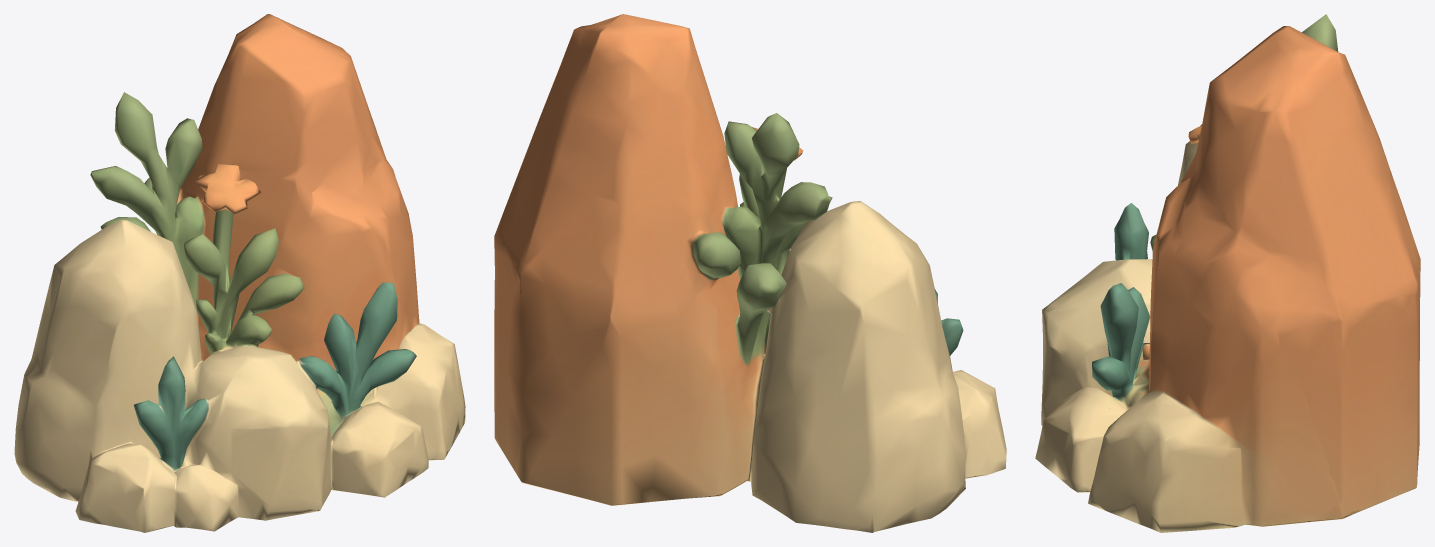
File: rocas_2.glb
3 renders of one model, left to right at view 1: azimuth 30°, elevation 25°; view 2: azimuth 150°, elevation 25°; view 3: azimuth 270°, elevation 25°, orthographic. The views are drawn at different scales.
Visible parts, largest first — view 1: tripo_node_e244d5c9-6b0b-4e58-8e0b-b99510ac7eab; view 2: tripo_node_e244d5c9-6b0b-4e58-8e0b-b99510ac7eab; view 3: tripo_node_e244d5c9-6b0b-4e58-8e0b-b99510ac7eab.
Part boxes in pixels (x1=…): tripo_node_e244d5c9-6b0b-4e58-8e0b-b99510ac7eab: x1=14, y1=14, x2=465, y2=532; tripo_node_e244d5c9-6b0b-4e58-8e0b-b99510ac7eab: x1=494, y1=14, x2=1006, y2=532; tripo_node_e244d5c9-6b0b-4e58-8e0b-b99510ac7eab: x1=1035, y1=14, x2=1420, y2=532.
Size of the model in its own units: 0.9996 by 0.9157 by 0.7578.
1 material, 1 textured.
